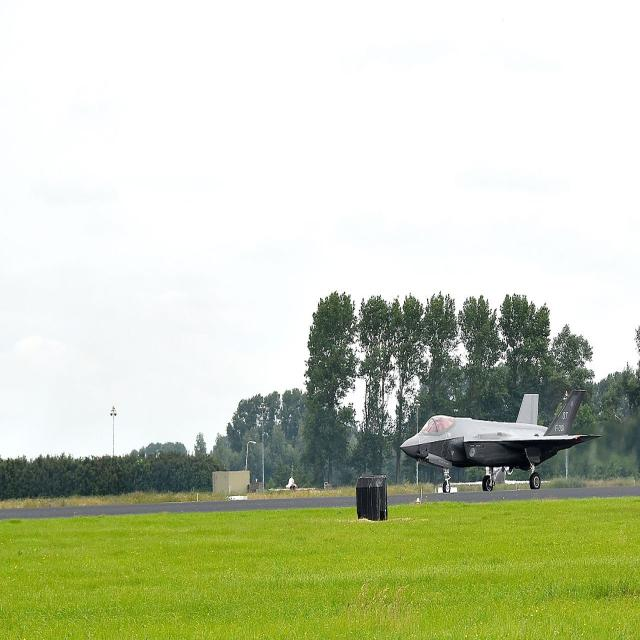MIL_Plane: (399, 389, 603, 493)
